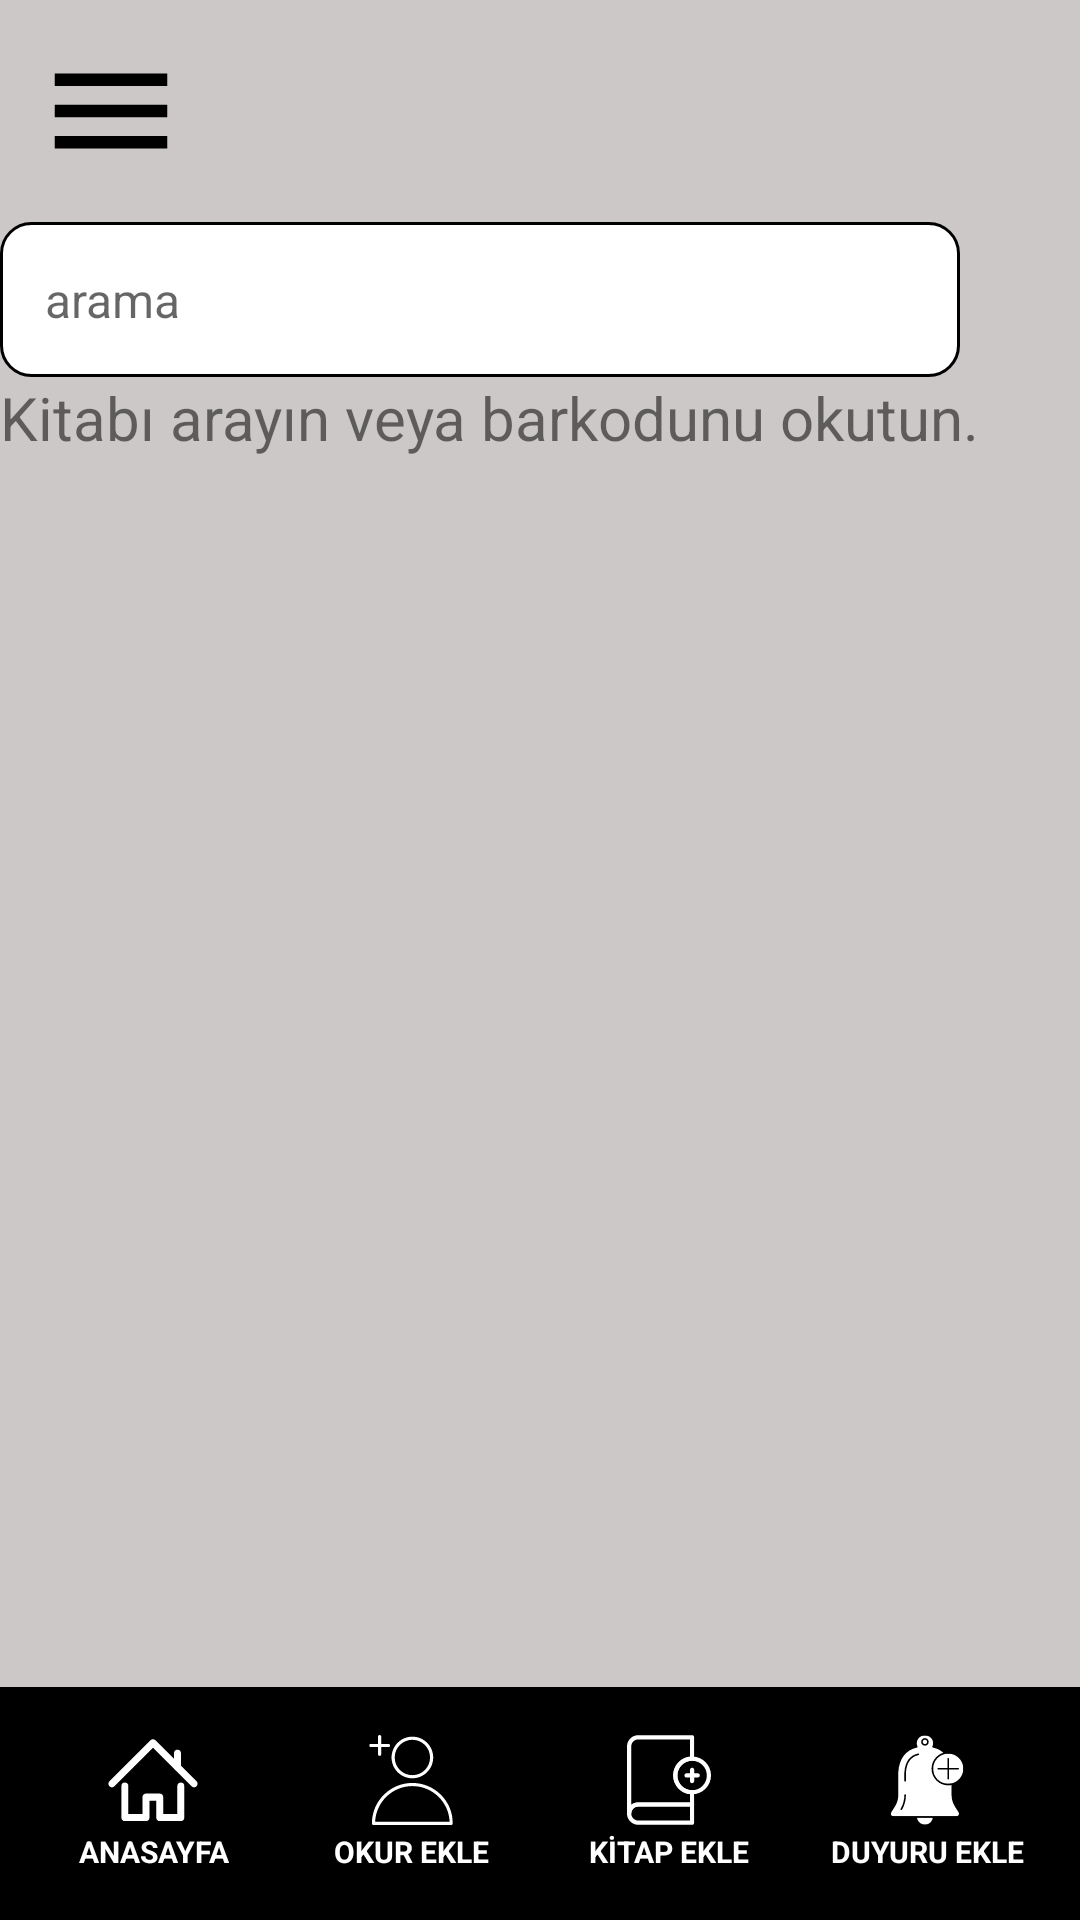

Where icons sit on this 1080w x 1920h app screen, as bbox=(x1, y1, x2, y2):
menu: bbox=(54, 73, 168, 149)
